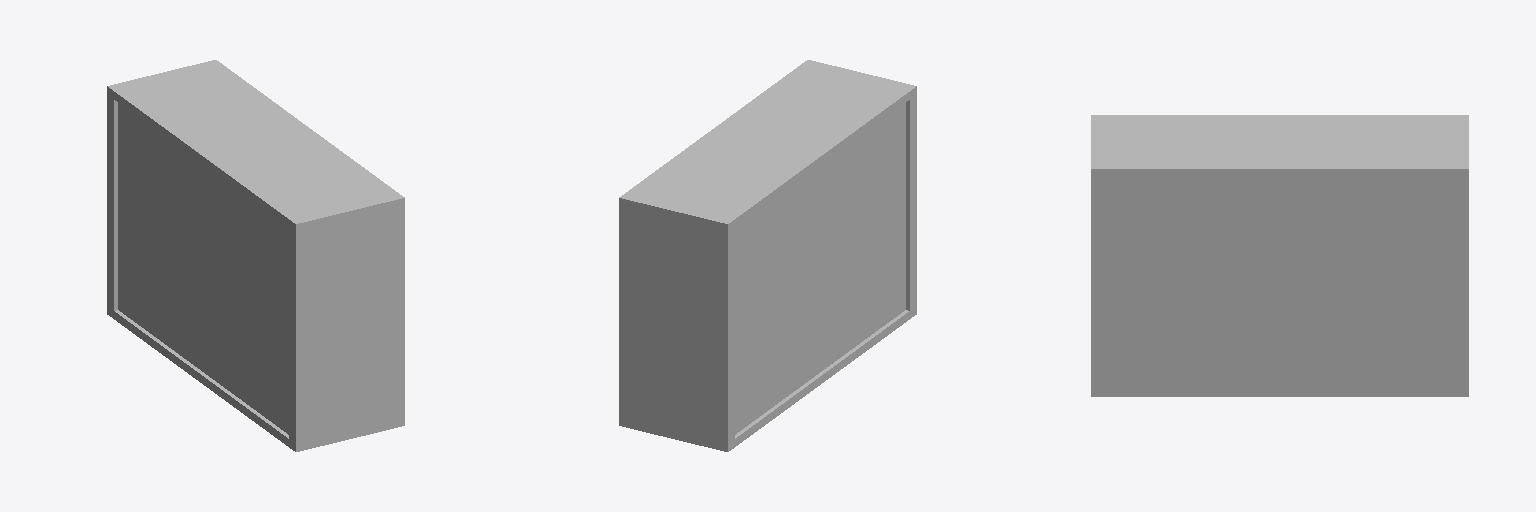
The model's file is display3x2.obj.
3 views of the same model, side by side, from view 1: azimuth 30°, elevation 25°; view 2: azimuth 150°, elevation 25°; view 3: azimuth 270°, elevation 25° (orthographic).
Parts seen in each view (by area): view 1: Cube_Cube.006; view 2: Cube_Cube.006; view 3: Cube_Cube.006.
Boxes of the visible parts, box(x1,y1,x2,y2) form: Cube_Cube.006: box(107, 60, 404, 451); Cube_Cube.006: box(619, 60, 916, 451); Cube_Cube.006: box(1091, 115, 1468, 396).
Bounding box in the file's own units: 1 × 2 × 3.